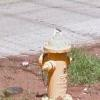Hydrant: (32, 21, 81, 100)
